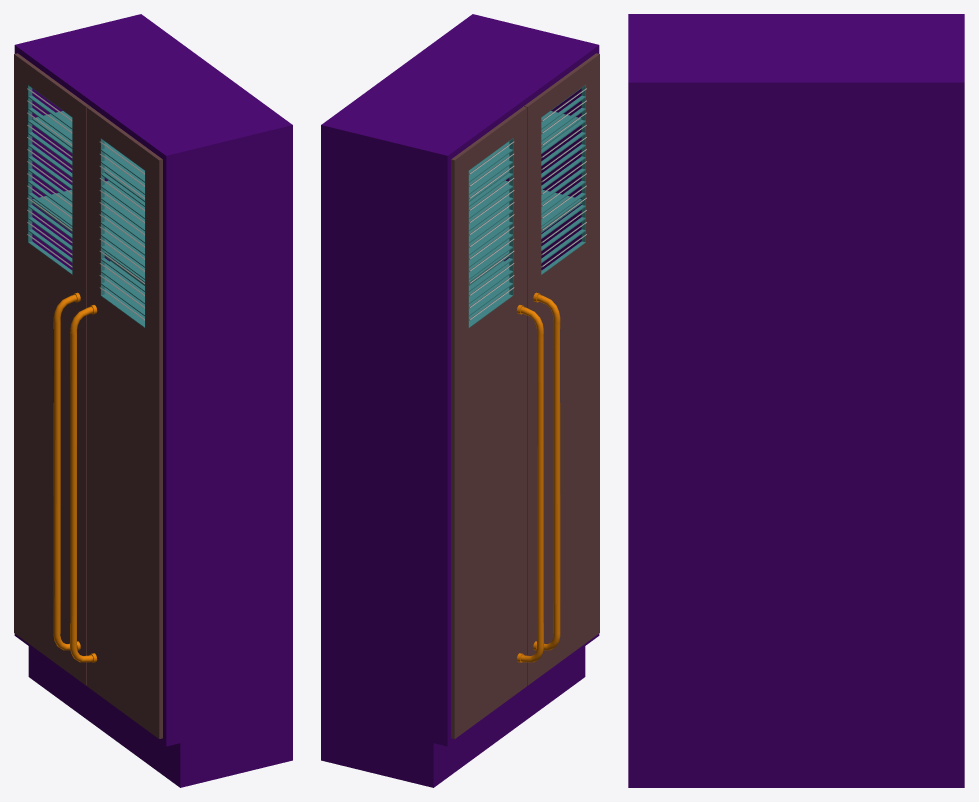
3 renders of one model, left to right at view 1: azimuth 30°, elevation 25°; view 2: azimuth 150°, elevation 25°; view 3: azimuth 270°, elevation 25°, orthographic. The views are drawn at different scales.
Parts seen in each view (by area): view 1: polySurface148; view 2: polySurface148; view 3: polySurface148.
Boxes of the visible parts, <box> form: polySurface148: <box>14,14,292,787</box>; polySurface148: <box>321,14,599,787</box>; polySurface148: <box>628,14,964,787</box>.
Bounding box in the file's own units: 60.06 × 236 × 102.
